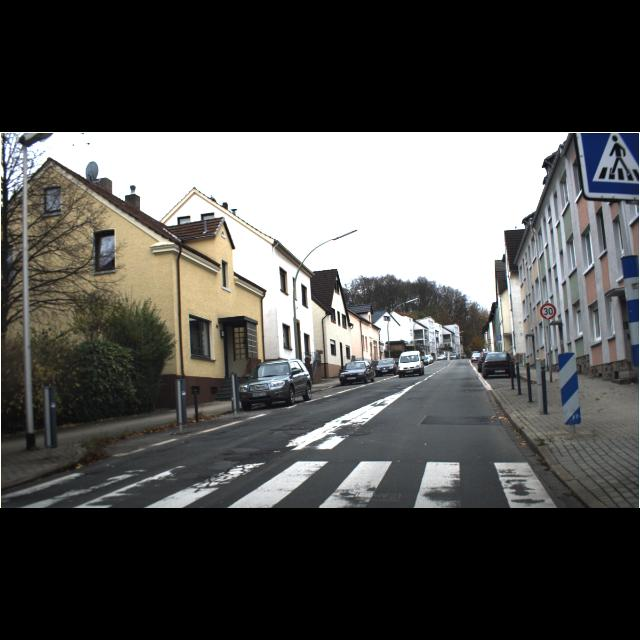prohibitory: (540, 302, 556, 320)
